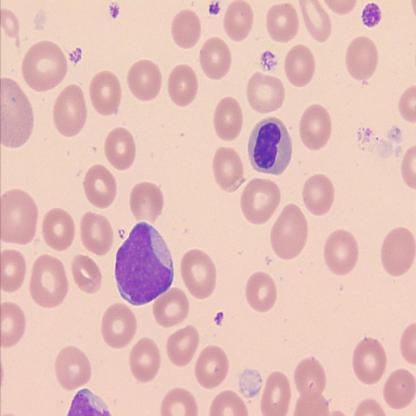NRC: (245, 117, 294, 175)
